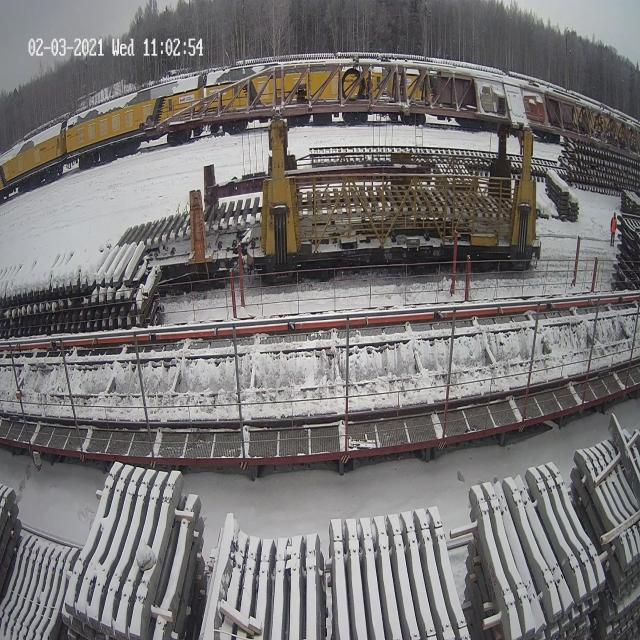Person: (610, 211, 616, 246)
